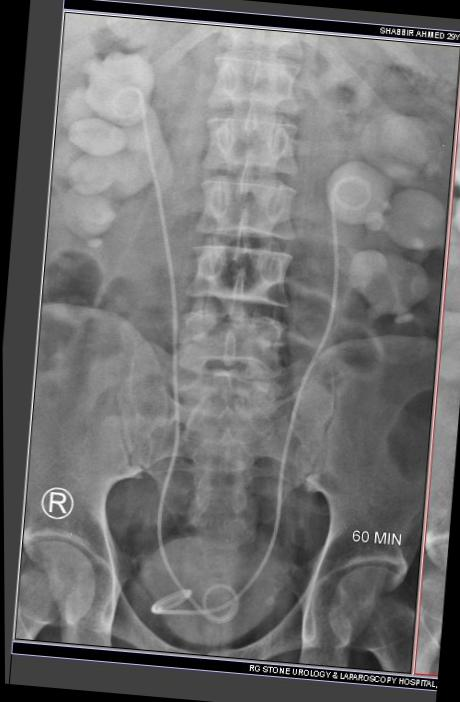vertebrae: (175, 21, 291, 100)
